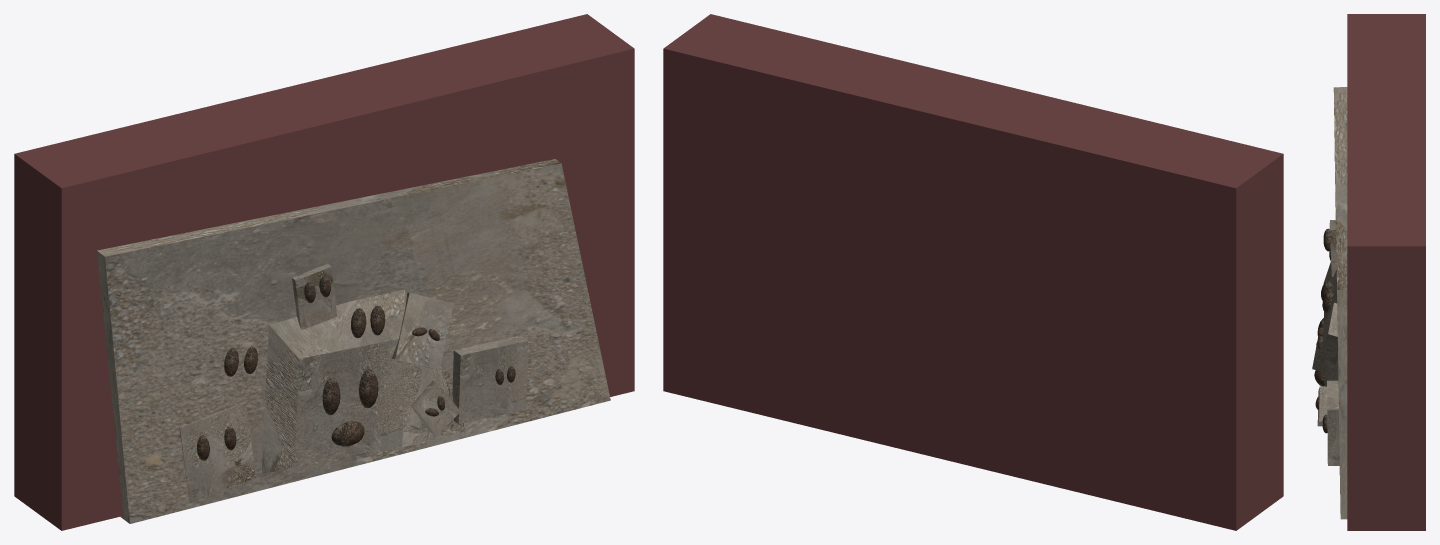
Rendered from boss.fbx.
The picture shows the model from 3 angles, left to right: view 1: azimuth 30°, elevation 25°; view 2: azimuth 150°, elevation 25°; view 3: azimuth 270°, elevation 25°; orthographic projection. The views are drawn at different scales.
Parts seen in each view (by area): view 1: Boss_Wall, Boss_Block_02, Boss_Block_01.001, Boss_Block_01, Boss_Block_00, Boss_Block_05, Boss_Block_06, Boss_Block_04; view 2: Boss_Wall; view 3: Boss_Wall, Boss_Block_02, Boss_Block_05, Boss_Block_01, Boss_Block_01.001, Boss_Block_06, Boss_Block_04, Boss_Eye_07_R.001.
Part boxes in pixels (x1=…): Boss_Wall: x1=14, y1=14, x2=634, y2=530; Boss_Block_02: x1=97, y1=159, x2=610, y2=523; Boss_Block_01.001: x1=261, y1=289, x2=466, y2=473; Boss_Block_01: x1=452, y1=335, x2=528, y2=423; Boss_Block_00: x1=179, y1=401, x2=255, y2=502; Boss_Block_05: x1=391, y1=292, x2=453, y2=369; Boss_Block_06: x1=292, y1=263, x2=337, y2=329; Boss_Block_04: x1=410, y1=380, x2=460, y2=435; Boss_Wall: x1=663, y1=14, x2=1283, y2=530; Boss_Wall: x1=1347, y1=14, x2=1425, y2=530; Boss_Block_02: x1=1333, y1=87, x2=1347, y2=519; Boss_Block_05: x1=1312, y1=302, x2=1337, y2=374; Boss_Block_01: x1=1327, y1=380, x2=1339, y2=465; Boss_Block_01.001: x1=1323, y1=262, x2=1338, y2=386; Boss_Block_06: x1=1329, y1=220, x2=1336, y2=276; Boss_Block_04: x1=1317, y1=386, x2=1327, y2=426; Boss_Eye_07_R.001: x1=1322, y1=291, x2=1333, y2=313.
Bounding box in the file's own units: 700 × 405 × 145.
